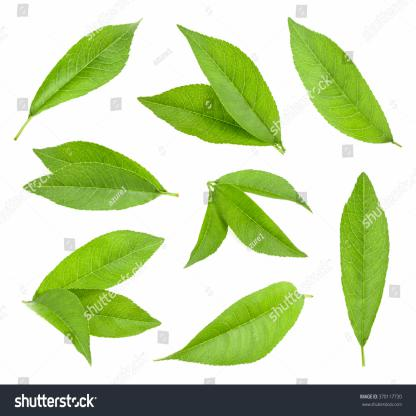peach leaf: (151, 274, 319, 370), (285, 14, 401, 149), (20, 15, 144, 133), (176, 21, 283, 148), (332, 167, 393, 371), (30, 230, 167, 301), (211, 180, 307, 260), (18, 163, 164, 215), (18, 279, 94, 372), (136, 81, 235, 146), (215, 164, 315, 214), (78, 288, 164, 343), (28, 141, 143, 181), (182, 186, 231, 267)
